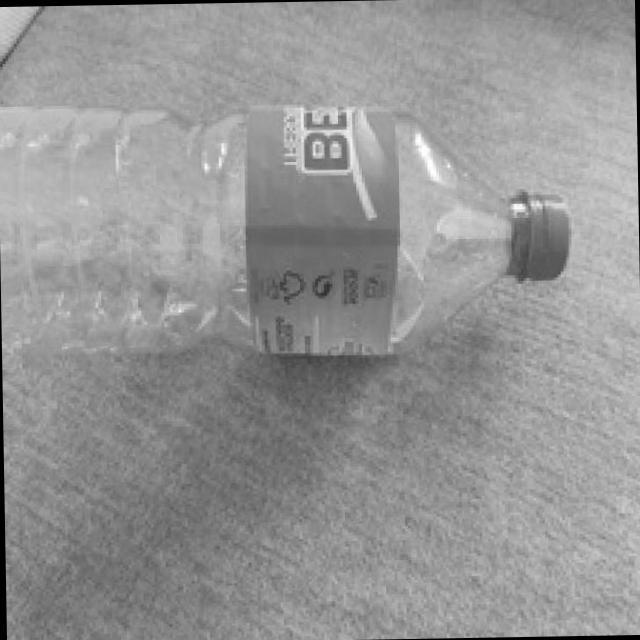good: (0, 81, 575, 399)
